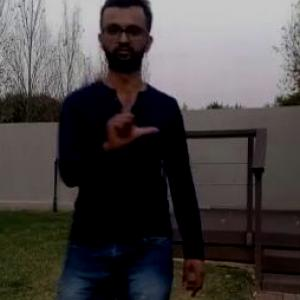land_hand: (102, 90, 168, 158)
